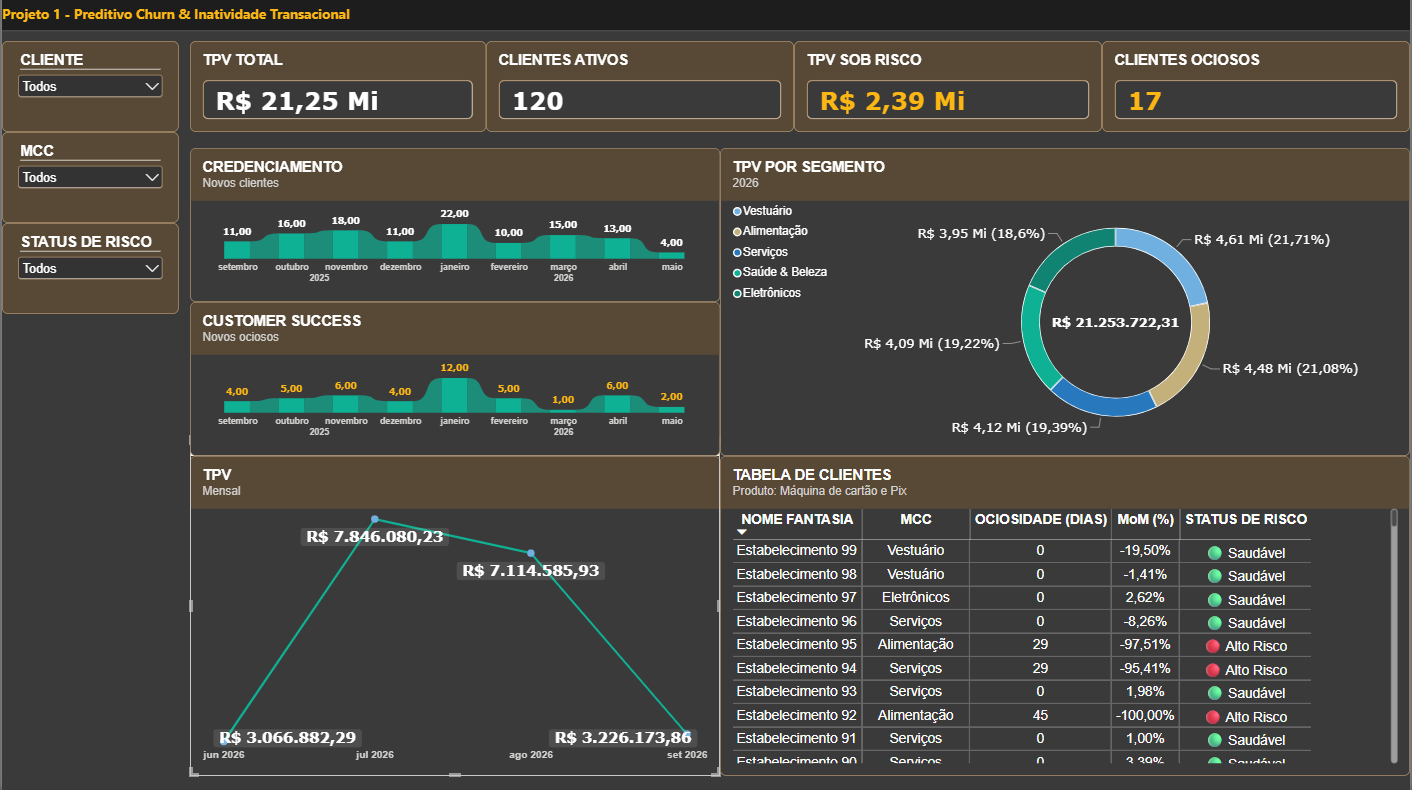

The page's visual inventory and layout, read from the dashboard file:
{"tool":"powerbi","page":{"name":"Projeto 1: Chrun e Ociosidade","canvas":[1920,1080],"ordinal":0},"visuals":[{"type":"cardVisual","title":"TPV TOTAL","fields":{"Data":["_Medidas.TPV total"]},"box":[256.4,55.9,403.6,124.1],"z":0},{"type":"cardVisual","title":"CLIENTES ATIVOS","fields":{"Data":["_Medidas.Lojistas ativos"]},"box":[660,55.9,420,124.1],"z":1000},{"type":"cardVisual","title":"TPV SOB RISCO","fields":{"Data":["_Medidas.TPV sob risco (Alto Risco)"]},"box":[1080,55.9,420,124.1],"z":2000},{"type":"slicer","fields":{"Values":["base_analytics_churn.segmento_mcc"]},"box":[0,180,241.4,124.1],"z":3000},{"type":"slicer","fields":{"Values":["base_analytics_churn.status_risco"]},"box":[0,304.1,241.4,124.1],"z":4000},{"type":"lineChart","title":"TPV","fields":{"Category":["transacoes_base.data_hora.Variation.Hierarquia de datas.Ano","transacoes_base.data_hora.Variation.Hierarquia de datas.Mês"],"Y":["_Medidas.TPV total"]},"box":[256.4,621.8,722.7,436.4],"z":5000},{"type":"tableEx","title":"TABELA DE CLIENTES","fields":{"Values":["base_analytics_churn.nome_fantasia","base_analytics_churn.segmento_mcc","base_analytics_churn.dias_sem_transacionar","Sum(base_analytics_churn.variacao_tpv_pct)","base_analytics_churn.status_risco"]},"box":[979.1,621.8,940.9,436.4],"z":6000},{"type":"textbox","box":[0,0,1920,40.9],"z":7000},{"type":"donutChart","title":"TPV POR SEGMENTO","fields":{"Category":["base_analytics_churn.segmento_mcc"],"Y":["_Medidas.TPV total"]},"box":[979.1,201.8,940.9,420],"z":8000},{"type":"cardVisual","title":"CLIENTES OCIOSOS","fields":{"Data":["_Medidas.Lojistas ociosos"]},"box":[1500,55.9,420,124.1],"z":9000},{"type":"columnChart","title":"CREDENCIAMENTO","fields":{"Category":["base_analytics_churn.data_credenciamento.Variation.Hierarquia de datas.Ano","base_analytics_churn.data_credenciamento.Variation.Hierarquia de datas.Mês"],"Y":["CountNonNull(base_analytics_churn.id_lojista)"]},"box":[256.4,201.8,722.7,210],"z":10000},{"type":"columnChart","title":"CUSTOMER SUCCESS","fields":{"Category":["base_analytics_churn.data_credenciamento.Variation.Hierarquia de datas.Ano","base_analytics_churn.data_credenciamento.Variation.Hierarquia de datas.Mês"],"Y":["_Medidas.Novos Ociosos"]},"box":[256.4,411.8,722.7,210],"z":11000},{"type":"slicer","fields":{"Values":["base_analytics_churn.nome_fantasia"]},"box":[0,55.9,241.4,124.1],"z":12000}]}

Visuals, with their boxes in screenshot pixels (x1, y1, x2, y2), scaled from the page's 1920x1080 canvas onto the 1412x790 screenshot:
"TPV TOTAL" cardVisual: {"x1": 189, "y1": 41, "x2": 485, "y2": 132}
"CLIENTES ATIVOS" cardVisual: {"x1": 485, "y1": 41, "x2": 794, "y2": 132}
"TPV SOB RISCO" cardVisual: {"x1": 794, "y1": 41, "x2": 1103, "y2": 132}
slicer - base_analytics_churn.segmento_mcc: {"x1": 0, "y1": 132, "x2": 178, "y2": 222}
slicer - base_analytics_churn.status_risco: {"x1": 0, "y1": 222, "x2": 178, "y2": 313}
"TPV" lineChart: {"x1": 189, "y1": 455, "x2": 720, "y2": 774}
"TABELA DE CLIENTES" tableEx: {"x1": 720, "y1": 455, "x2": 1411, "y2": 774}
textbox: {"x1": 0, "y1": 0, "x2": 1411, "y2": 30}
"TPV POR SEGMENTO" donutChart: {"x1": 720, "y1": 148, "x2": 1411, "y2": 455}
"CLIENTES OCIOSOS" cardVisual: {"x1": 1103, "y1": 41, "x2": 1411, "y2": 132}
"CREDENCIAMENTO" columnChart: {"x1": 189, "y1": 148, "x2": 720, "y2": 301}
"CUSTOMER SUCCESS" columnChart: {"x1": 189, "y1": 301, "x2": 720, "y2": 455}
slicer - base_analytics_churn.nome_fantasia: {"x1": 0, "y1": 41, "x2": 178, "y2": 132}
